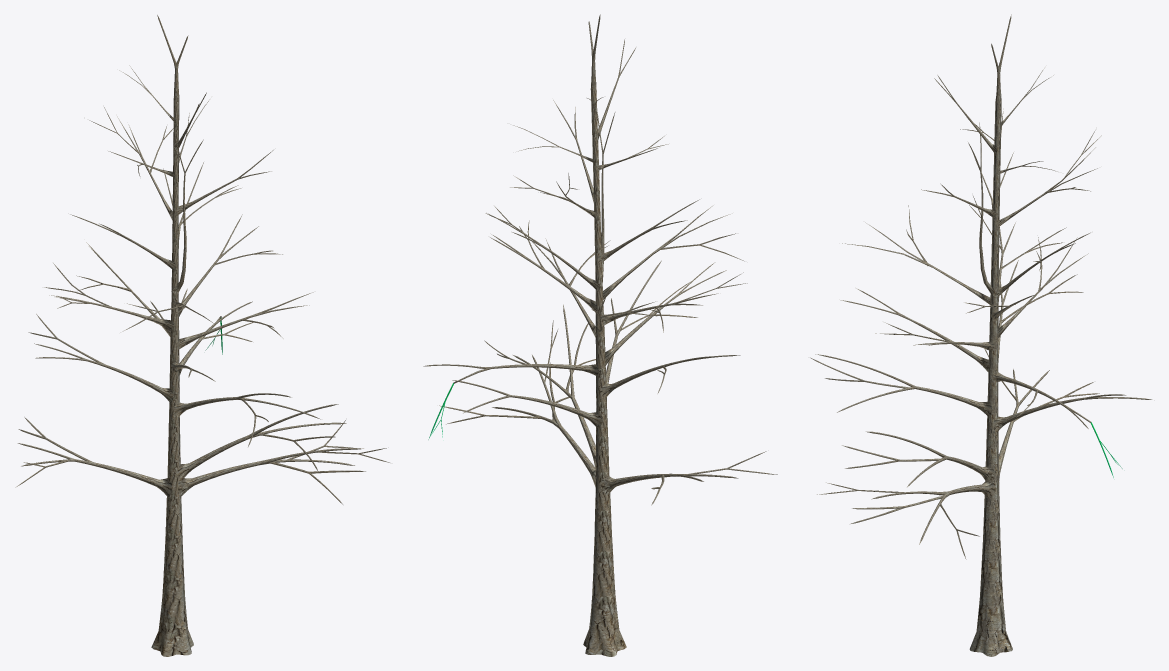
Rendered from Tree4.glb.
The picture shows the model from 3 angles, left to right: view 1: azimuth 30°, elevation 25°; view 2: azimuth 150°, elevation 25°; view 3: azimuth 270°, elevation 25°; orthographic projection. The views are drawn at different scales.
Visible parts, largest first — view 1: tronc_bas, tronc_haut, bark10_0.004, bark10_0.012, bark10_0.014, bark10_0.005, bark10_0.010, bark10_0.008; view 2: tronc_bas, tronc_haut, bark10_0.004, bark10_0.013, bark10_0.001, bark10_0.015, bark10_0.014, bark10_0.009; view 3: tronc_bas, tronc_haut, bark10_0.012, bark10_0.004, bark10_0.013, bark10_0.015, bark10_0, bark10_0.009.
Part boxes in pixels (x1,y1,x2,y2): tronc_bas: (151,359,193,656); tronc_haut: (157,15,188,361); bark10_0.004: (177,448,363,496); bark10_0.012: (173,393,320,419); bark10_0.014: (34,343,175,402); bark10_0.005: (94,462,172,496); bark10_0.010: (176,292,313,348); bark10_0.008: (175,435,248,481); tronc_bas: (583,354,626,656); tronc_haut: (588,14,605,356); bark10_0.004: (492,355,595,486); bark10_0.013: (452,380,602,428); bark10_0.001: (423,364,600,383); bark10_0.015: (605,262,726,365); bark10_0.014: (600,355,740,398); bark10_0.009: (603,205,732,299); tronc_bas: (969,360,1012,656); tronc_haut: (988,14,1011,362); bark10_0.012: (815,354,992,416); bark10_0.004: (871,481,995,544); bark10_0.013: (993,394,1152,431); bark10_0.015: (840,288,989,372); bark10_0: (968,122,994,295); bark10_0.009: (842,222,993,305).
Bounding box in the file's own units: 3.62 × 6.51 × 3.24.
1 material, 1 textured.
